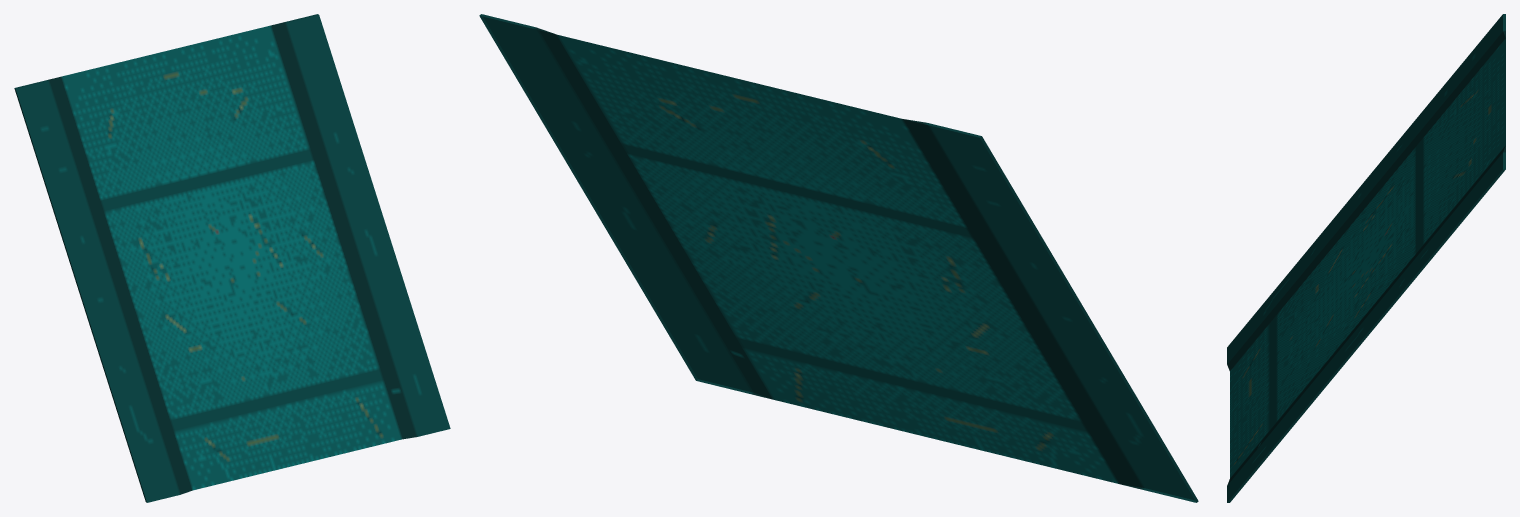
File: med1_9d_ofs192_90.fbx
3 views of the same model, side by side, from view 1: azimuth 30°, elevation 25°; view 2: azimuth 150°, elevation 25°; view 3: azimuth 270°, elevation 25° (orthographic). The views are drawn at different scales.
Parts seen in each view (by area): view 1: med1_9d_mesh_ofs192_90; view 2: med1_9d_mesh_ofs192_90; view 3: med1_9d_mesh_ofs192_90.
Boxes of the visible parts, <box> form: med1_9d_mesh_ofs192_90: <box>14,14,450,502</box>; med1_9d_mesh_ofs192_90: <box>479,14,1198,502</box>; med1_9d_mesh_ofs192_90: <box>1227,14,1505,502</box>.
Bounding box in the file's own units: 256 × 256 × 194.
